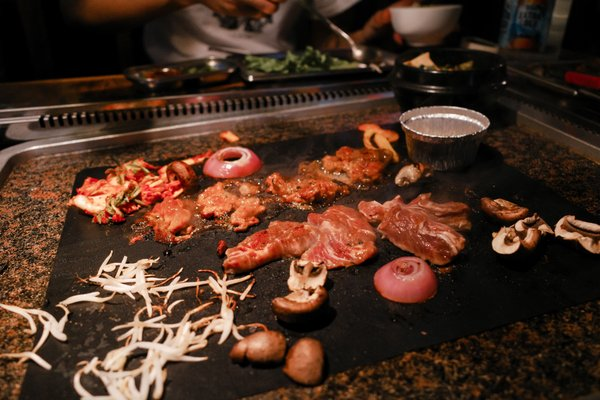sushi: (390, 46, 509, 112), (399, 105, 491, 171)
